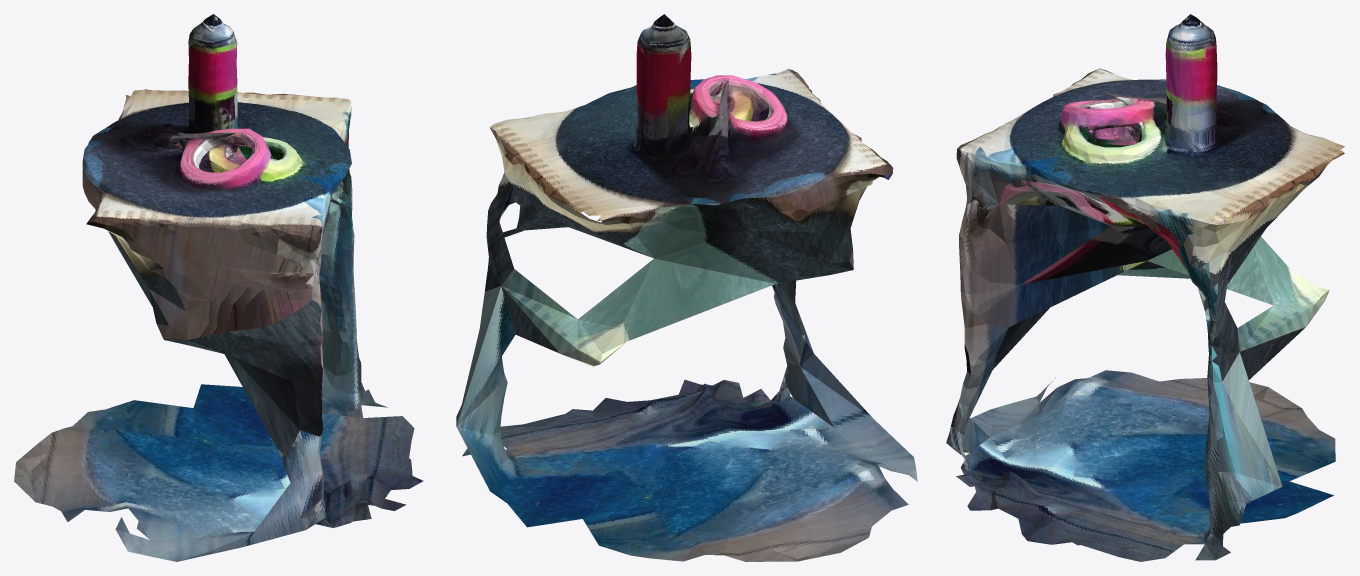
The model's file is 1024-street.glb.
The picture shows the model from 3 angles, left to right: view 1: azimuth 30°, elevation 25°; view 2: azimuth 150°, elevation 25°; view 3: azimuth 270°, elevation 25°; orthographic projection. The views are drawn at different scales.
Visible parts, largest first — view 1: Mesh_0; view 2: Mesh_0; view 3: Mesh_0.
Boxes of the visible parts, box(x1,y1,x2,y2) form: Mesh_0: box(14, 14, 423, 561); Mesh_0: box(456, 14, 917, 561); Mesh_0: box(946, 14, 1344, 561).
Size of the model in its own units: 0.5705 by 0.67 by 0.5236.
Materials: 1 (1 with a texture image).
